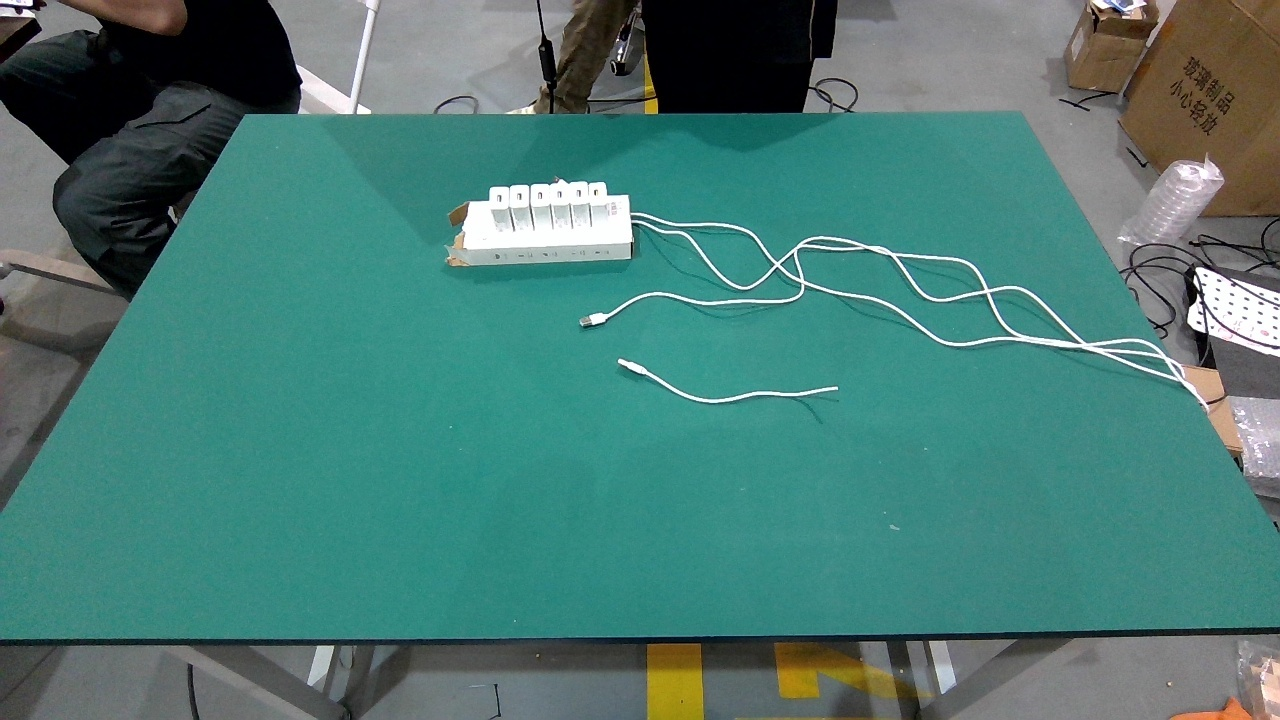usb_a_plug: (615, 355, 655, 379), (576, 309, 618, 329)
